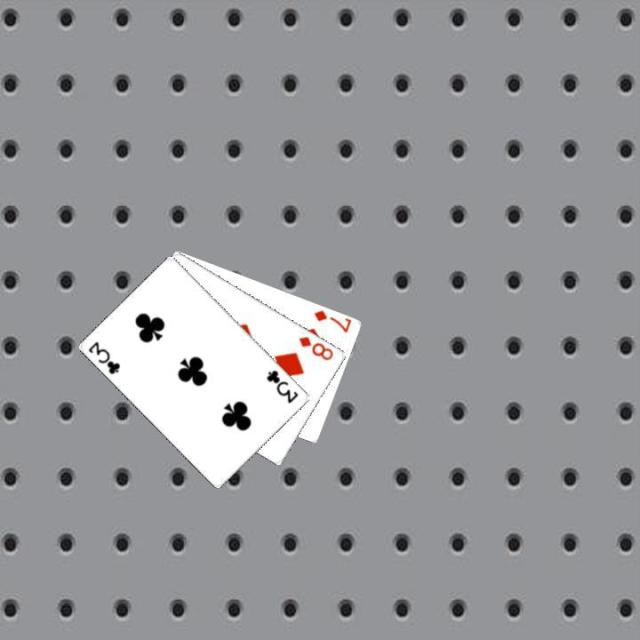3C: (263, 366, 301, 406), (84, 337, 122, 376)
7D: (310, 306, 353, 334)
8D: (295, 332, 335, 362)
